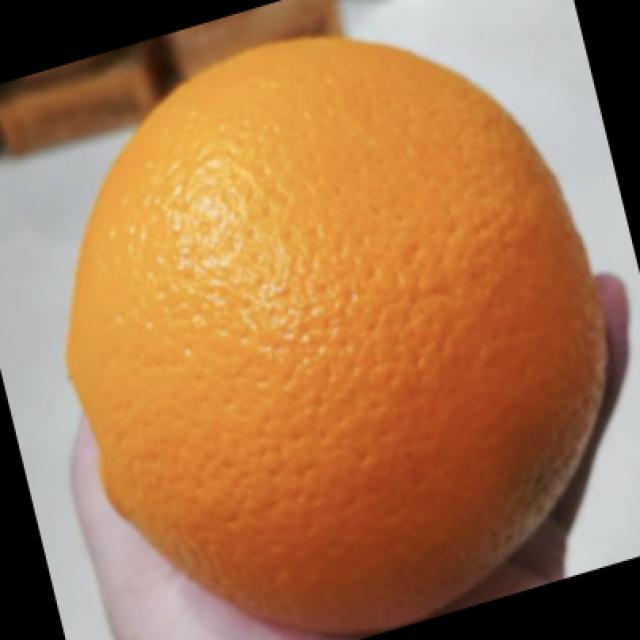matang: (68, 41, 600, 628)
